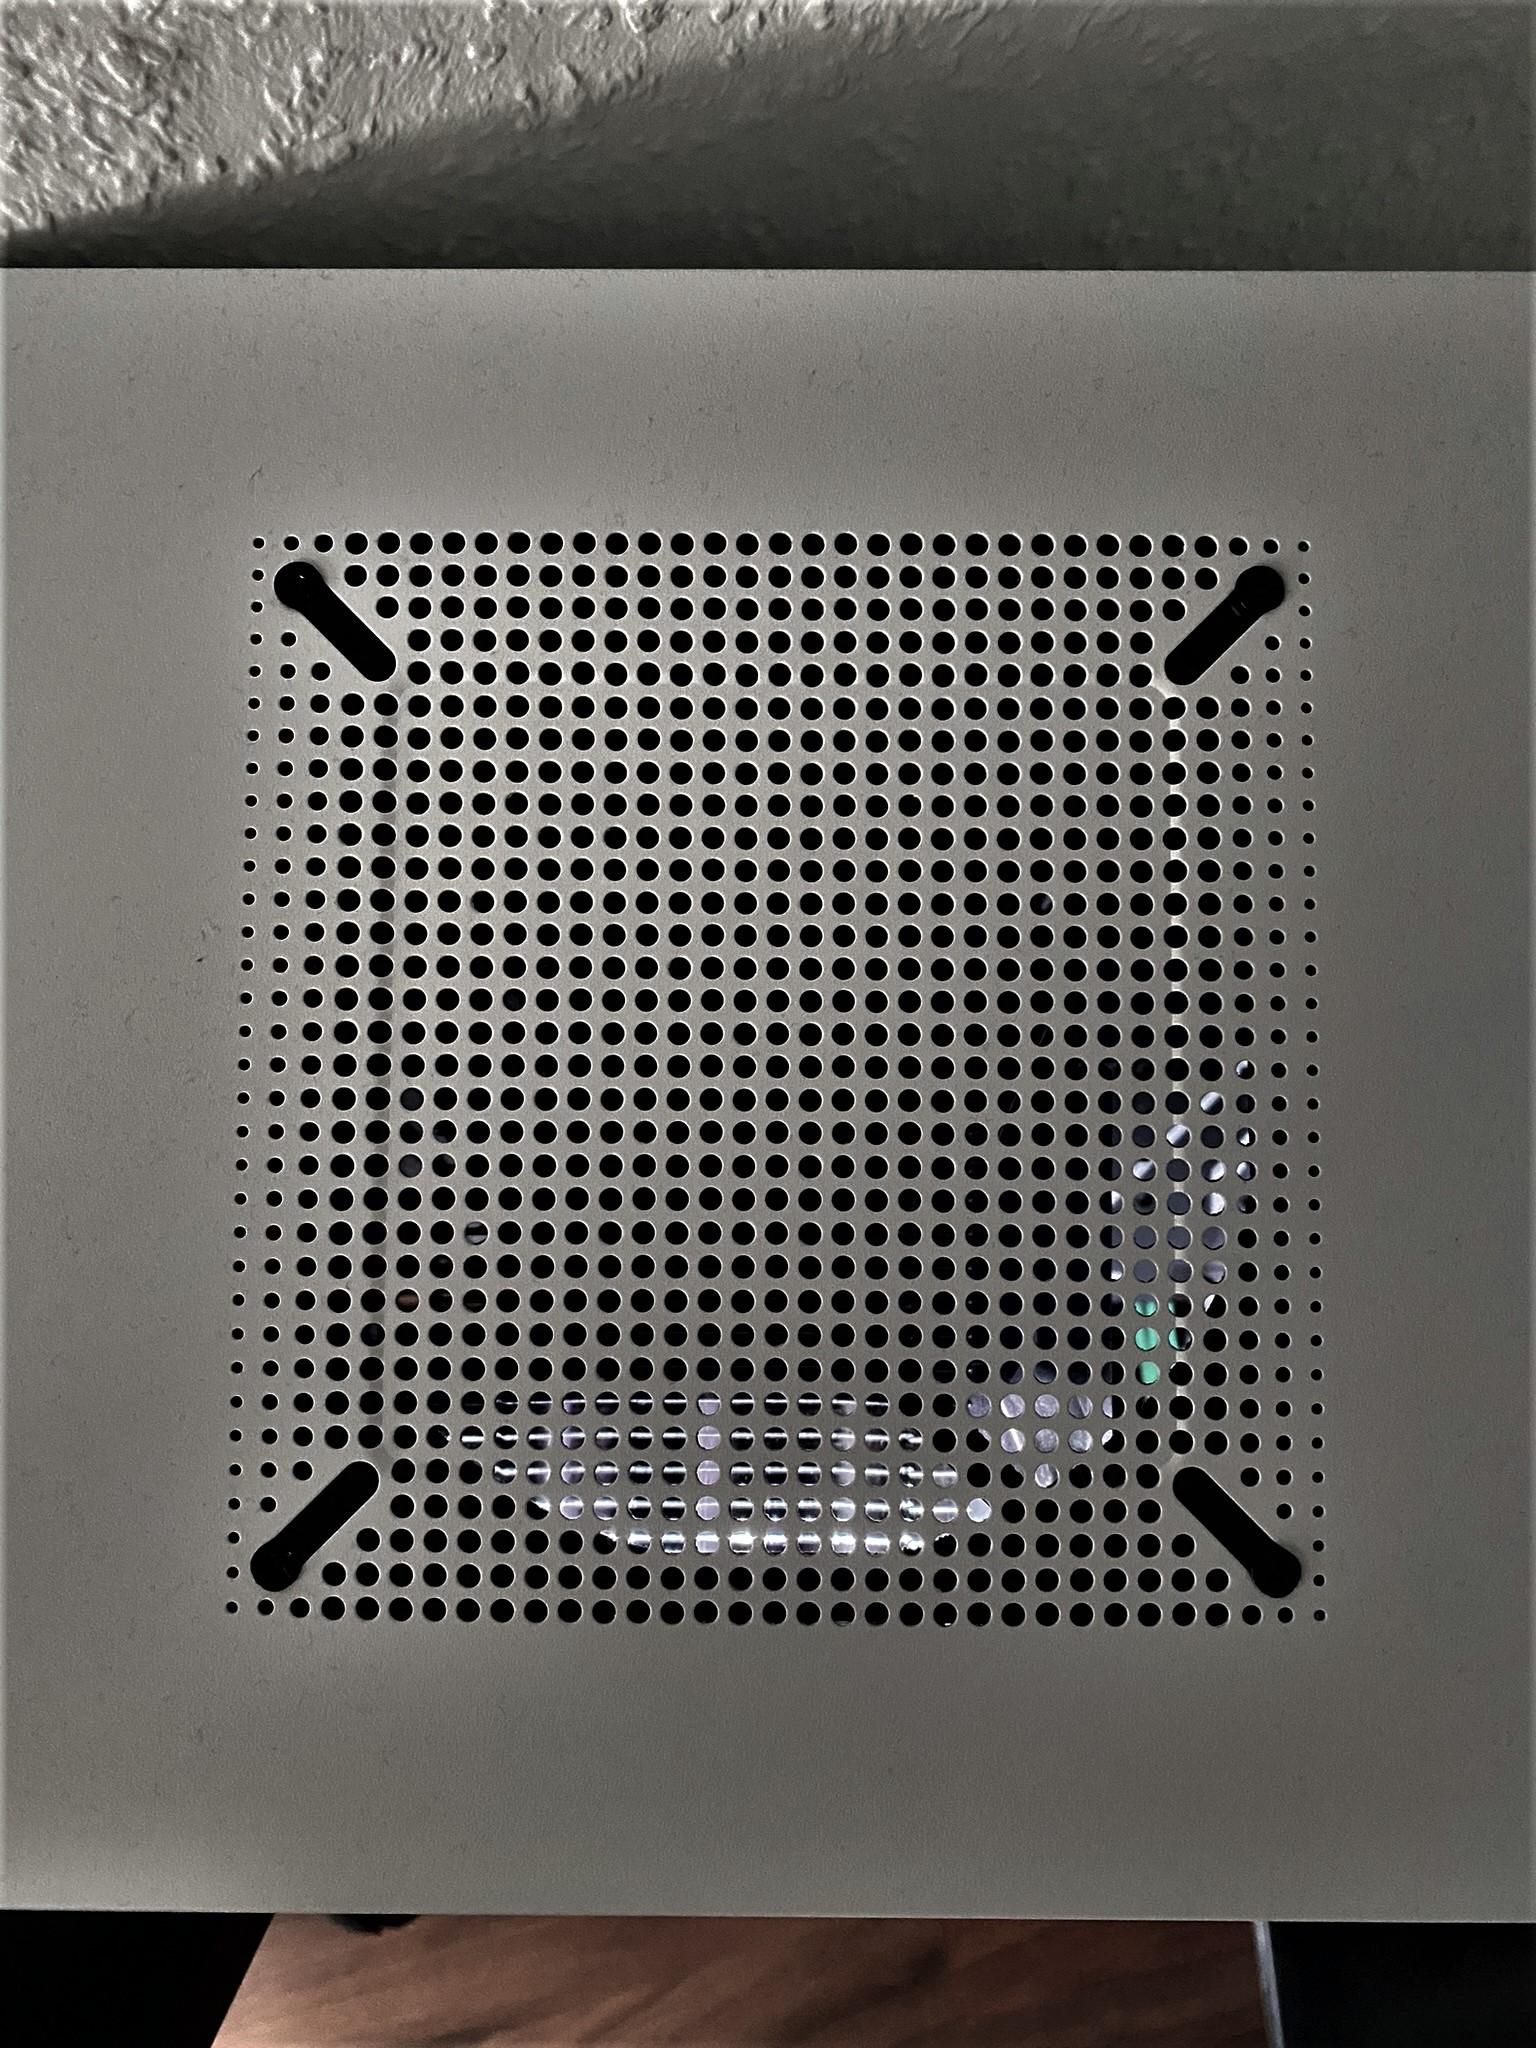PH: (1232, 564, 1288, 616), (272, 560, 320, 612)
